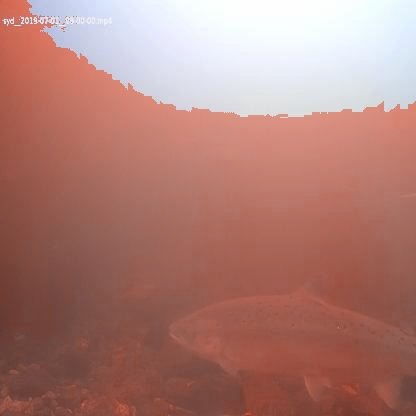salmon: (164, 279, 416, 412)
